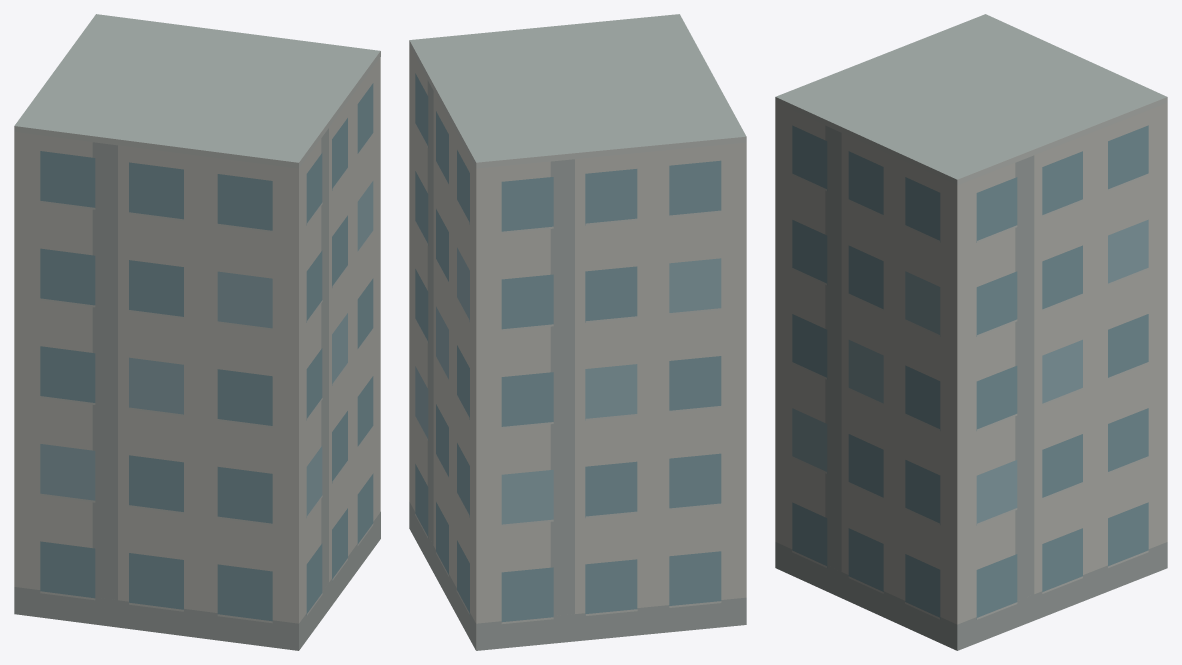
File: survey-upis-32928610.glb
3 views of the same model, side by side, from view 1: azimuth 30°, elevation 25°; view 2: azimuth 150°, elevation 25°; view 3: azimuth 270°, elevation 25° (orthographic). The views are drawn at different scales.
Visible parts, largest first — view 1: survey-upis-32928610.tmp; view 2: survey-upis-32928610.tmp; view 3: survey-upis-32928610.tmp.
Boxes of the visible parts, x1,y1,x2,y2 form: survey-upis-32928610.tmp: [14, 14, 380, 650]; survey-upis-32928610.tmp: [409, 14, 746, 650]; survey-upis-32928610.tmp: [775, 14, 1167, 650].
Bounding box in the file's own units: 14.87 × 19.7 × 14.87.
